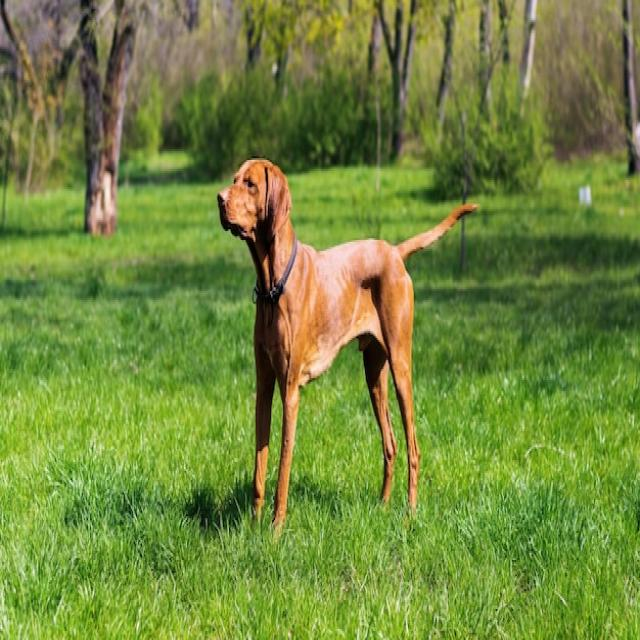Dog: (218, 160, 481, 531)
